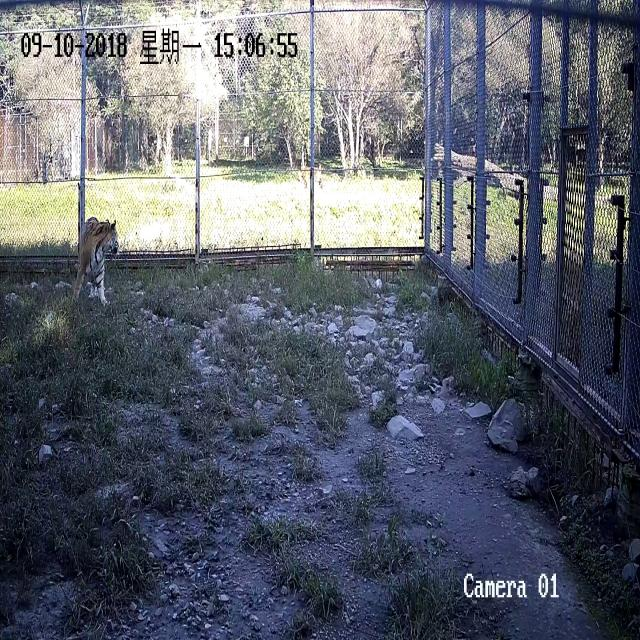Tiger: (68, 211, 128, 321)
